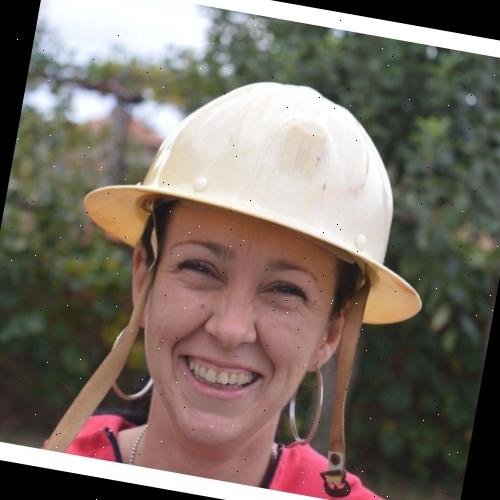helmet: (66, 48, 456, 336)
